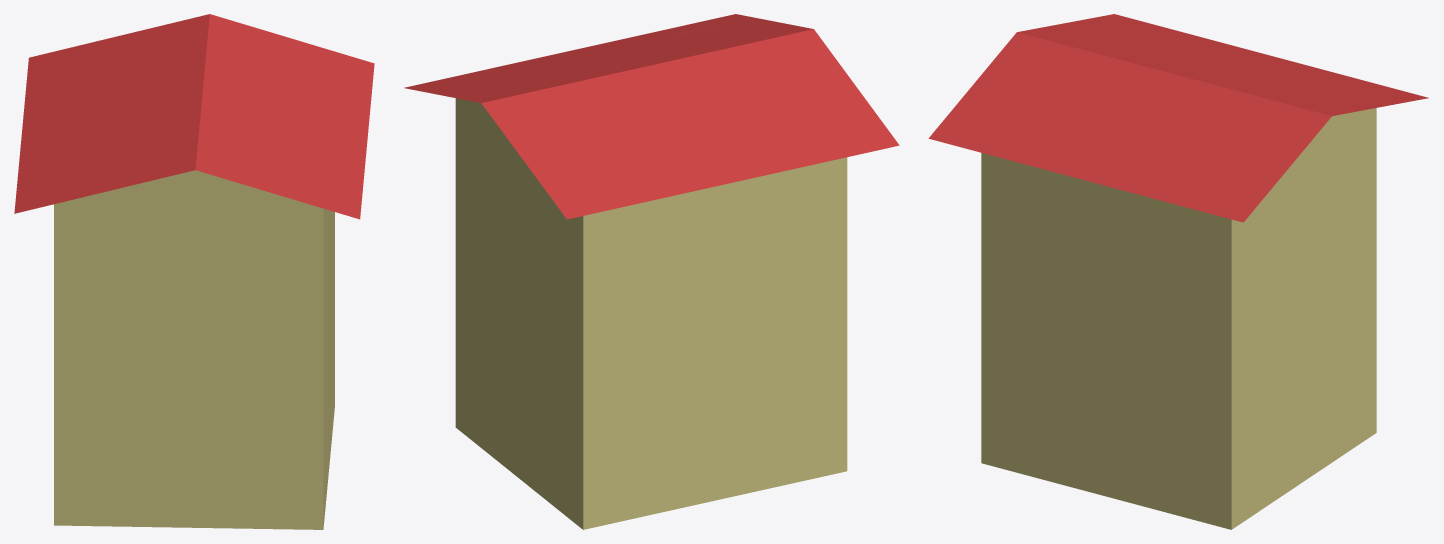
The picture shows the model from 3 angles, left to right: view 1: azimuth 30°, elevation 25°; view 2: azimuth 150°, elevation 25°; view 3: azimuth 270°, elevation 25°; orthographic projection.
Size of the model in its own units: 6.42 by 6.52 by 5.41.
